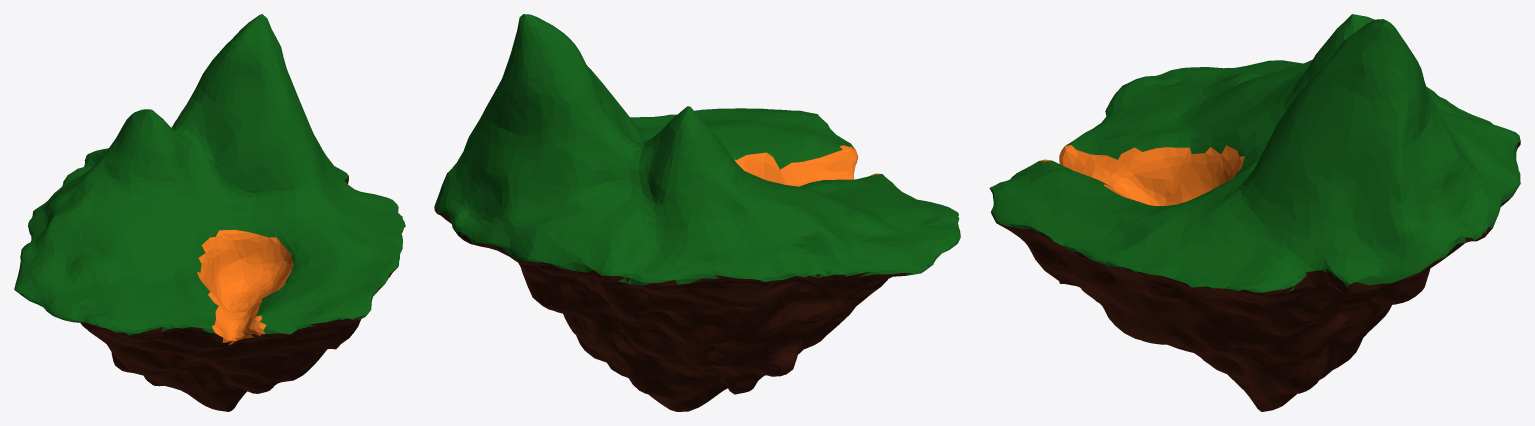
File: island_test_1-6.FBX
3 renders of one model, left to right at view 1: azimuth 30°, elevation 25°; view 2: azimuth 150°, elevation 25°; view 3: azimuth 270°, elevation 25°, orthographic. The views are drawn at different scales.
Visible parts, largest first — view 1: ZBrush_defualt_group; view 2: ZBrush_defualt_group; view 3: ZBrush_defualt_group.
Part boxes in pixels (<box>): ZBrush_defualt_group: <box>14,14,405,411</box>; ZBrush_defualt_group: <box>434,14,960,411</box>; ZBrush_defualt_group: <box>989,14,1520,411</box>.
Size of the model in its own units: 2819721 by 2720456 by 2490120.
